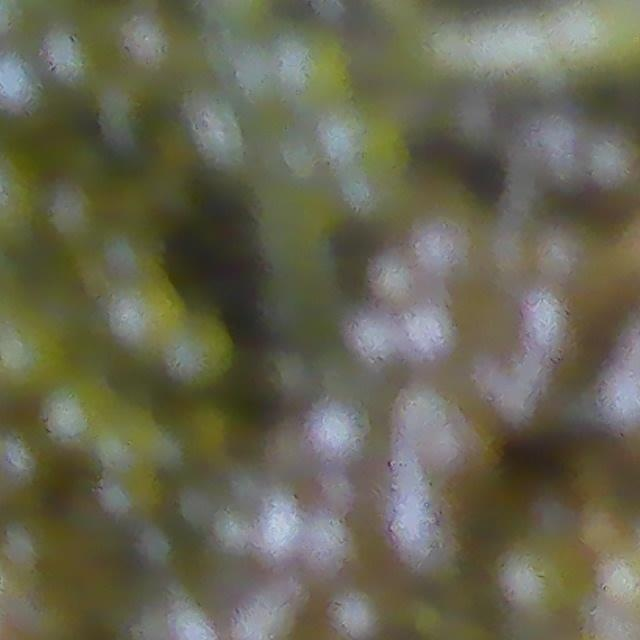SeaGrape: (158, 308, 241, 395), (531, 213, 594, 280), (415, 213, 473, 276), (431, 430, 485, 497), (590, 117, 640, 182), (531, 123, 585, 183), (522, 295, 583, 346), (345, 303, 392, 368), (417, 298, 466, 360), (369, 245, 420, 304), (317, 401, 364, 463), (238, 590, 292, 640), (308, 531, 350, 582), (341, 611, 399, 640), (250, 513, 294, 551)
